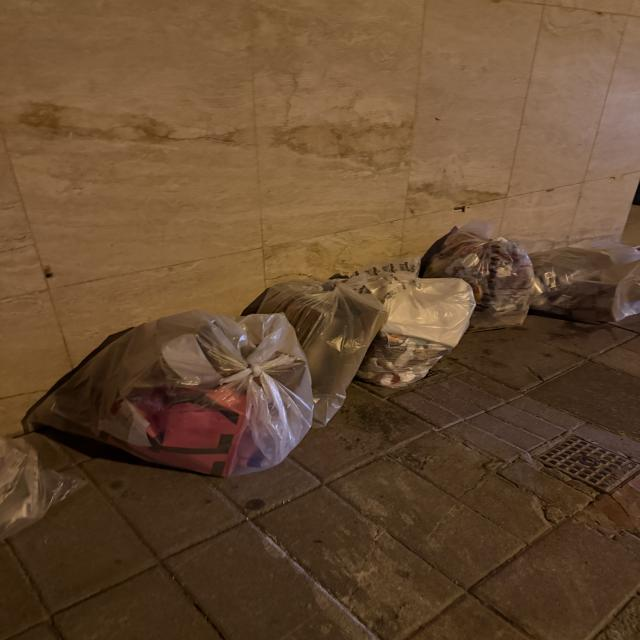Recyclable Material -Grey Bags-: (27, 220, 640, 476)
